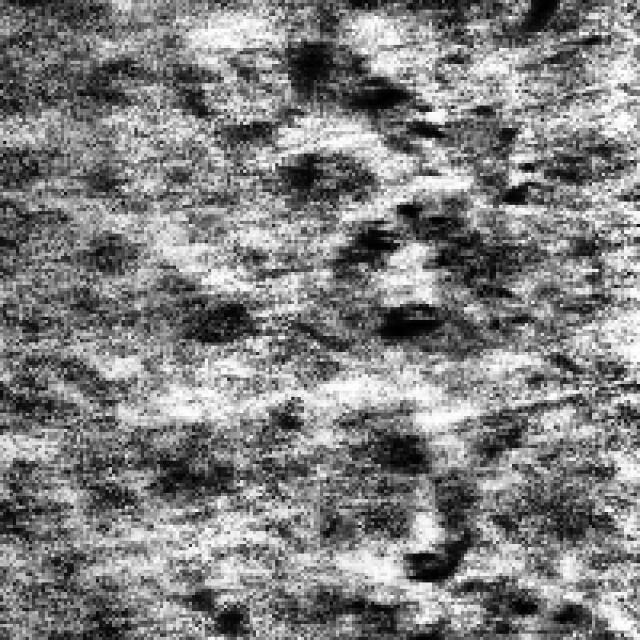Crazing: (310, 68, 470, 358)
